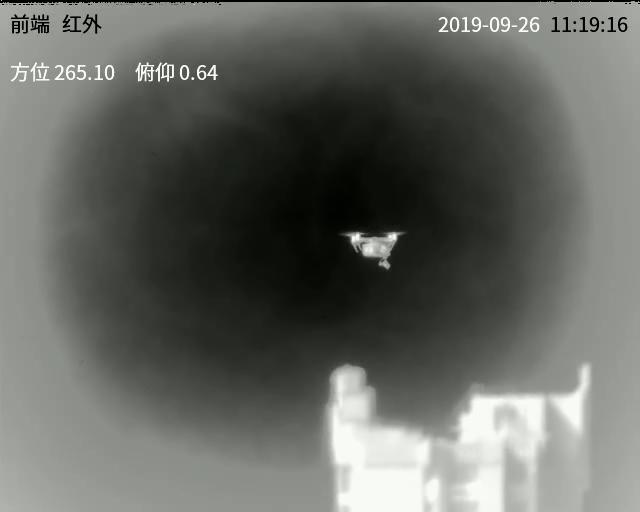uav: (339, 229, 407, 274)
